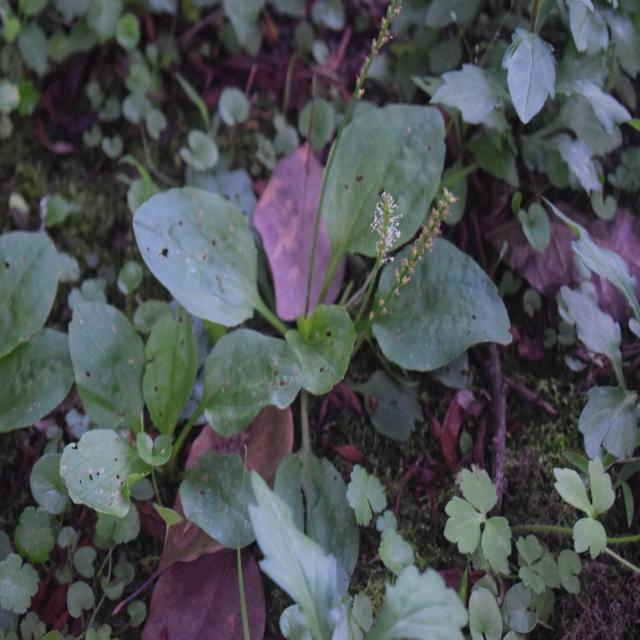plantain: (140, 80, 491, 431)
